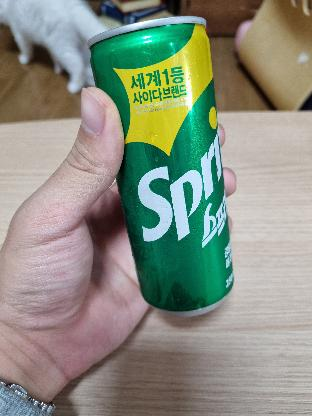Can: (90, 25, 242, 315)
